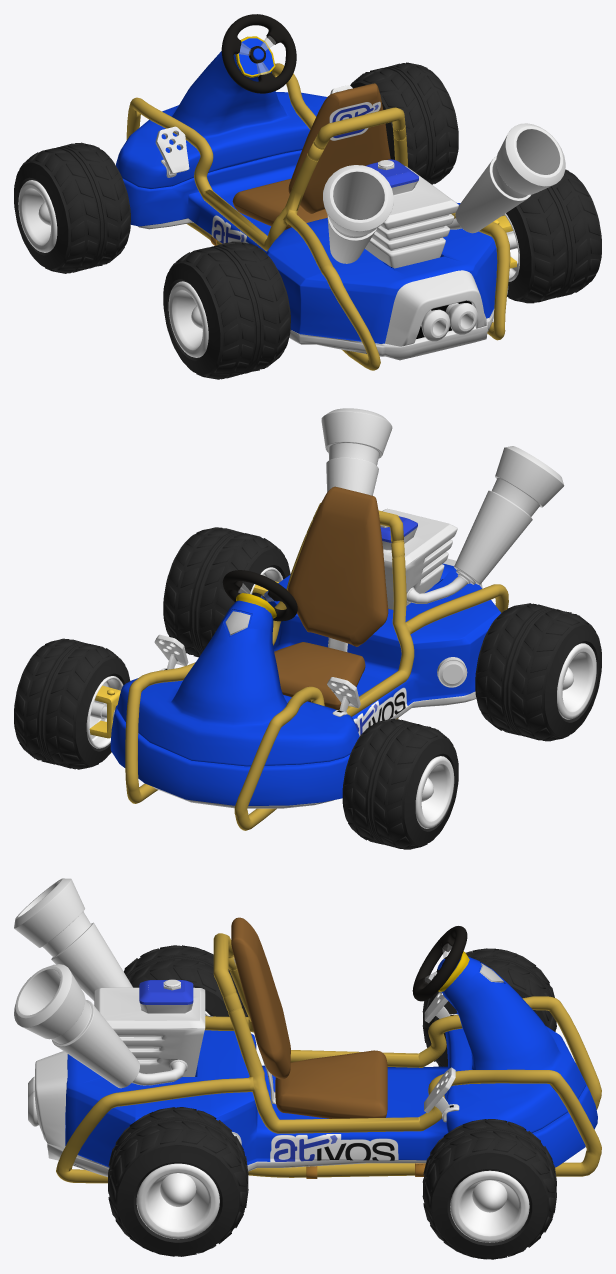
Rendered from bolido.glb.
The picture shows the model from 3 angles, top to bottom: view 1: azimuth 30°, elevation 25°; view 2: azimuth 150°, elevation 25°; view 3: azimuth 270°, elevation 25°; orthographic projection. The views are drawn at different scales.
Parts seen in each view (by area): view 1: Object_6, Object_14, RodaTrasEsq, RodaFrenteEsq, Object_8, RodaTrasDir, Object_13, RodaFrenteDir, Object_16, Volante, Adesivo_encosto, Object_11 (+1 smaller); view 2: Object_6, Object_16, RodaTrasEsq, Object_14, RodaFrenteEsq, RodaFrenteDir, Object_8, RodaTrasDir, Object_13, Volante, Adesivo_lateral_esq; view 3: Object_6, Object_8, Object_14, RodaTrasDir, RodaFrenteDir, Object_16, Object_13, RodaTrasEsq, Adesivo_lateral_dir, RodaFrenteEsq, Volante, Object_11.
Part boxes in pixels (<box>): Object_6: <box>116,38,497,343</box>; Object_14: <box>161,123,565,346</box>; RodaTrasEsq: <box>163,241,290,379</box>; RodaFrenteEsq: <box>14,142,130,273</box>; Object_8: <box>126,63,510,370</box>; RodaTrasDir: <box>493,169,601,303</box>; Object_13: <box>137,85,517,360</box>; RodaFrenteDir: <box>350,62,458,184</box>; Object_16: <box>232,83,390,230</box>; Volante: <box>221,14,296,93</box>; Adesivo_encosto: <box>329,101,380,140</box>; Object_11: <box>366,159,418,187</box>; Object_6: <box>110,563,500,805</box>; Object_16: <box>274,486,388,709</box>; RodaTrasEsq: <box>475,603,601,741</box>; Object_14: <box>90,408,564,718</box>; RodaFrenteEsq: <box>342,718,458,849</box>; RodaFrenteDir: <box>14,638,130,769</box>; Object_8: <box>125,503,508,830</box>; RodaTrasDir: <box>163,527,290,657</box>; Object_13: <box>153,508,476,808</box>; Volante: <box>223,570,297,621</box>; Adesivo_lateral_esq: <box>353,687,407,736</box>; Object_6: <box>65,956,597,1167</box>; Object_8: <box>56,933,601,1183</box>; Object_14: <box>14,878,459,1148</box>; RodaTrasDir: <box>108,1107,248,1256</box>; RodaFrenteDir: <box>422,1119,556,1259</box>; Object_16: <box>231,917,387,1118</box>; Object_13: <box>47,979,456,1176</box>; RodaTrasEsq: <box>124,945,248,1016</box>; Adesivo_lateral_dir: <box>270,1134,398,1161</box>; RodaFrenteEsq: <box>422,948,556,1066</box>; Volante: <box>412,926,467,1001</box>; Object_11: <box>139,980,193,1004</box>.
Bounding box in the file's own units: 72.6 × 38.89 × 86.59.
17 materials, 2 textured.
